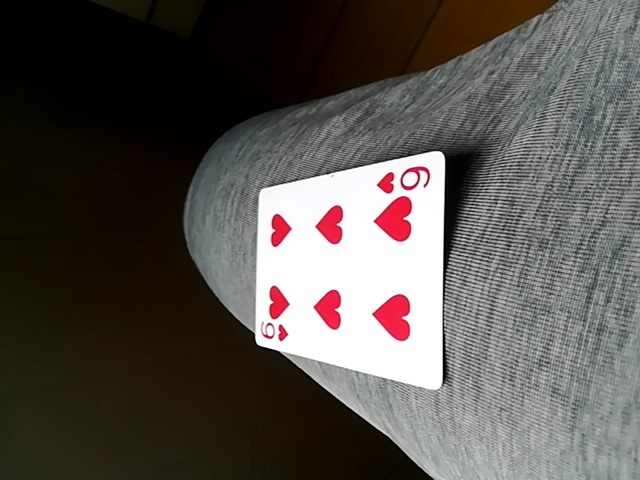hx 6: (251, 150, 451, 391)
